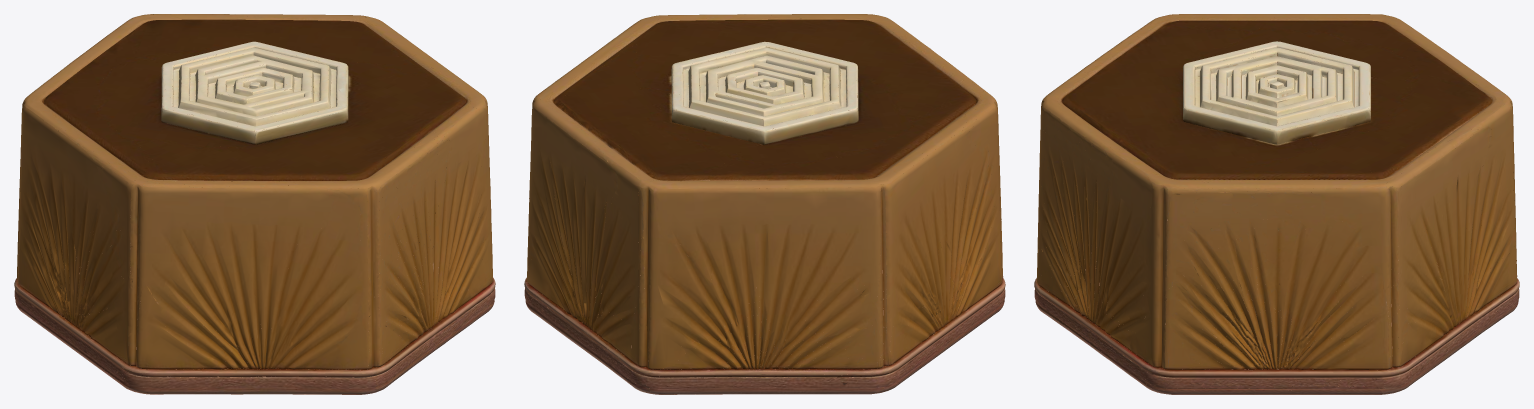
The model's file is cake-05-hex-caramel.glb.
The picture shows the model from 3 angles, left to right: view 1: azimuth 30°, elevation 25°; view 2: azimuth 150°, elevation 25°; view 3: azimuth 270°, elevation 25°; orthographic projection.
Parts seen in each view (by area): view 1: cake-05; view 2: cake-05; view 3: cake-05.
Boxes of the visible parts, x1,y1,x2,y2 form: cake-05: (14,14,495,394); cake-05: (524,14,1005,394); cake-05: (1034,14,1519,394).
Size of the model in its own units: 1.76 by 1.03 by 2.
Materials: 1 (1 with a texture image).
